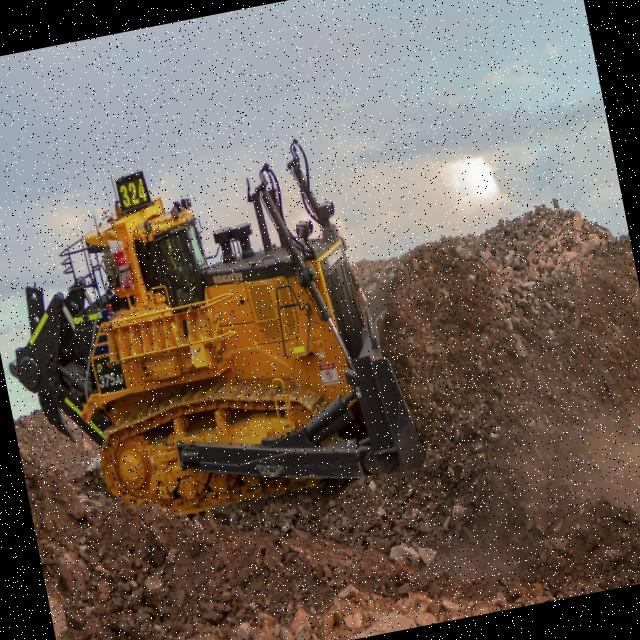Bulldozer: (0, 134, 440, 587)
